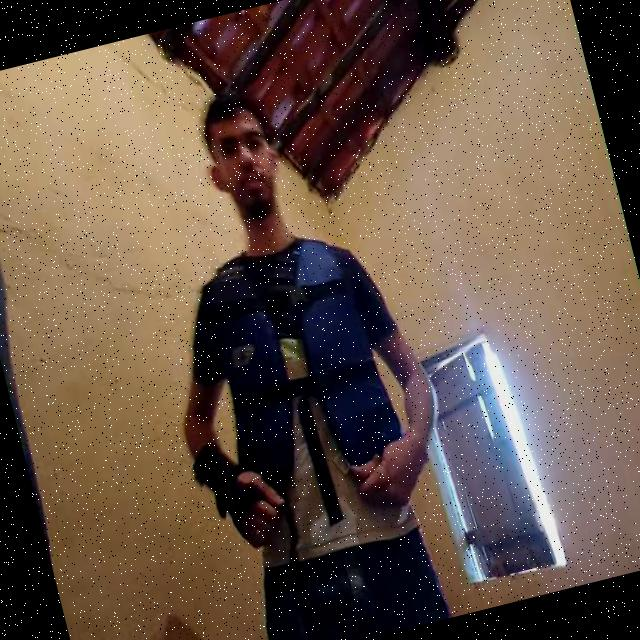colete: (195, 224, 422, 526)
pessoa: (108, 58, 488, 640)
